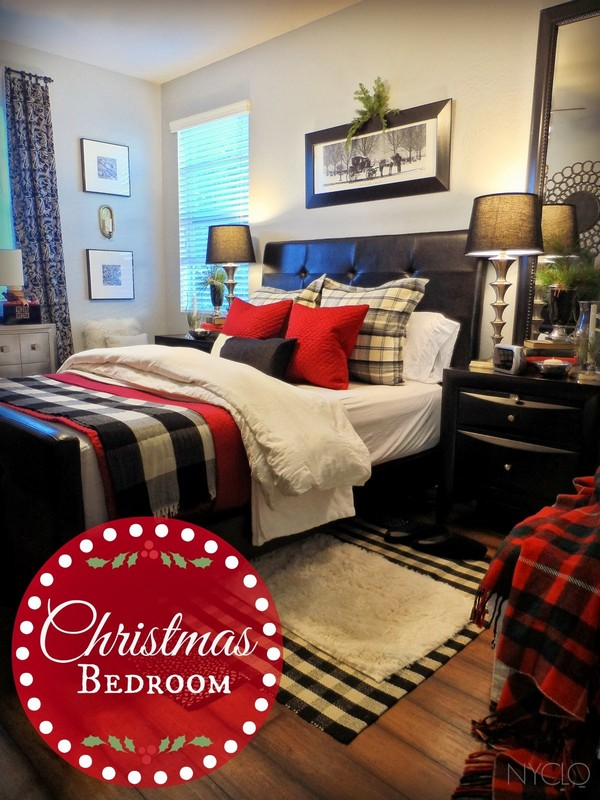bed: (29, 235, 462, 527)
lamp: (470, 190, 541, 381), (203, 219, 259, 318), (4, 242, 26, 332)
stool: (446, 370, 589, 551)
